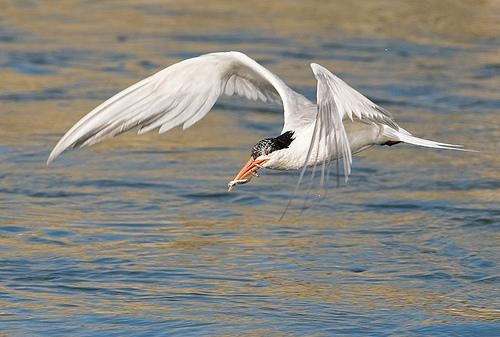bird: (40, 55, 471, 184)
